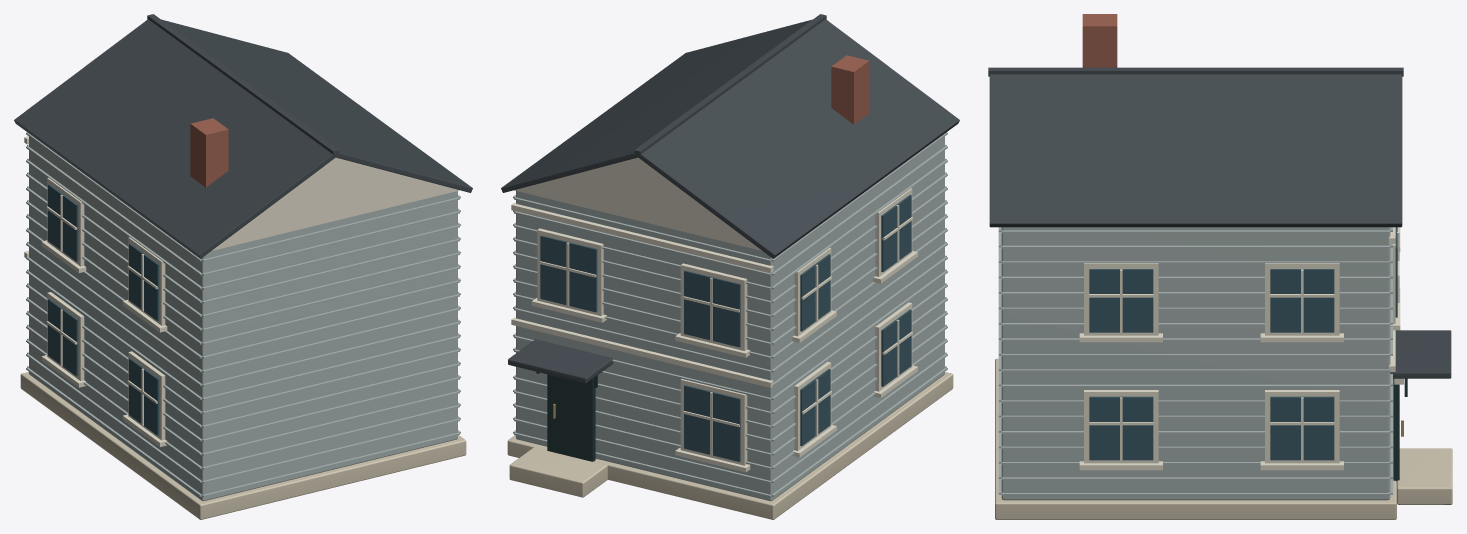
File: gableHome.glb
3 renders of one model, left to right at view 1: azimuth 30°, elevation 25°; view 2: azimuth 150°, elevation 25°; view 3: azimuth 270°, elevation 25°, orthographic. The views are drawn at different scales.
Parts seen in each view (by area): view 1: Painted siding, Slate roof, Ivory trim, Limestone, Window glass, Terracotta brick; view 2: Painted siding, Slate roof, Ivory trim, Window glass, Limestone, Dark metal, Terracotta brick; view 3: Painted siding, Slate roof, Window glass, Limestone, Ivory trim, Terracotta brick, Dark metal.
Part boxes in pixels (<box>): Painted siding: <box>26,132,460,501</box>; Slate roof: <box>14,14,472,258</box>; Ivory trim: <box>24,136,459,446</box>; Limestone: <box>20,372,466,519</box>; Window glass: <box>48,184,159,435</box>; Terracotta brick: <box>190,118,228,187</box>; Painted siding: <box>513,132,947,501</box>; Slate roof: <box>501,14,959,383</box>; Ivory trim: <box>511,157,917,472</box>; Window glass: <box>540,194,911,461</box>; Limestone: <box>507,372,953,519</box>; Dark metal: <box>536,371,597,461</box>; Terracotta brick: <box>831,55,869,124</box>; Painted siding: <box>998,227,1392,500</box>; Slate roof: <box>988,67,1451,378</box>; Window glass: <box>1089,227,1397,460</box>; Limestone: <box>995,358,1452,519</box>; Ivory trim: <box>1079,227,1403,470</box>; Terracotta brick: <box>1082,14,1117,67</box>; Dark metal: <box>1393,378,1407,481</box>.
Size of the model in its own units: 6.64 by 8 by 8.73.
